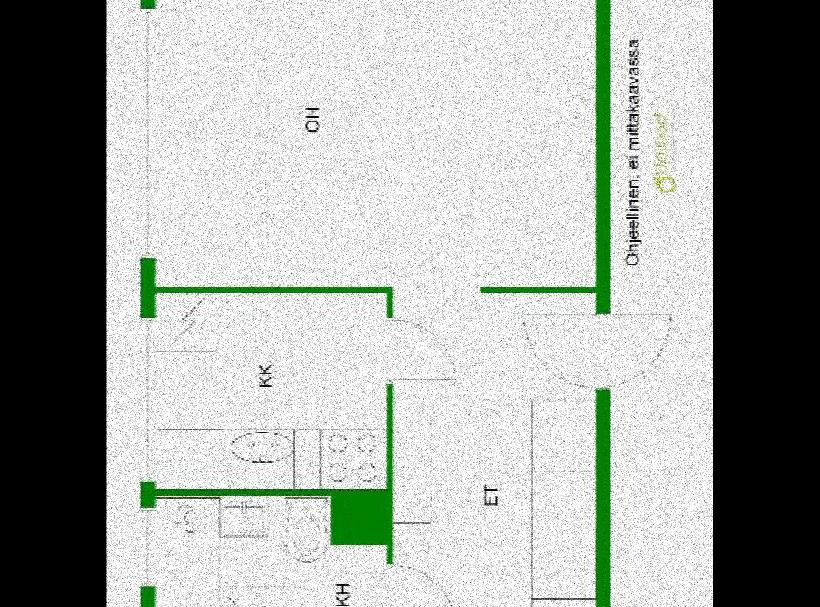door: (520, 304, 676, 384), (382, 317, 462, 382), (387, 563, 455, 607)
window: (140, 7, 156, 258), (140, 320, 154, 479), (142, 510, 156, 584)
zone: (153, 0, 593, 607), (148, 293, 384, 488), (154, 493, 388, 607)
